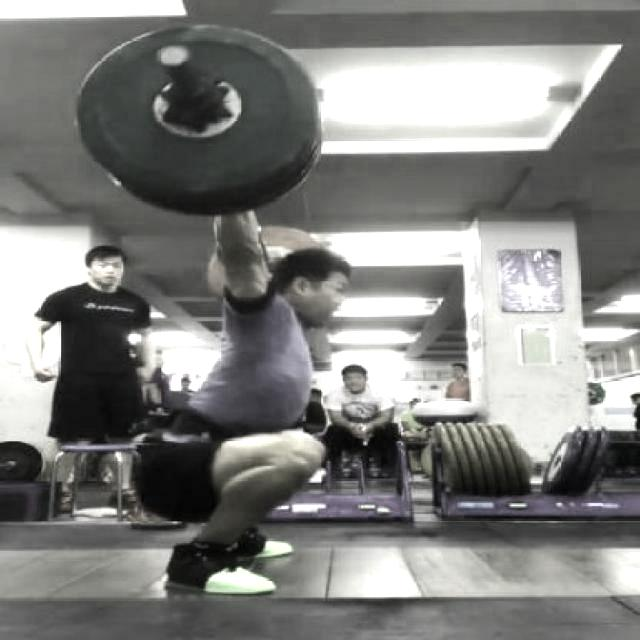barbell: (66, 18, 342, 222)
